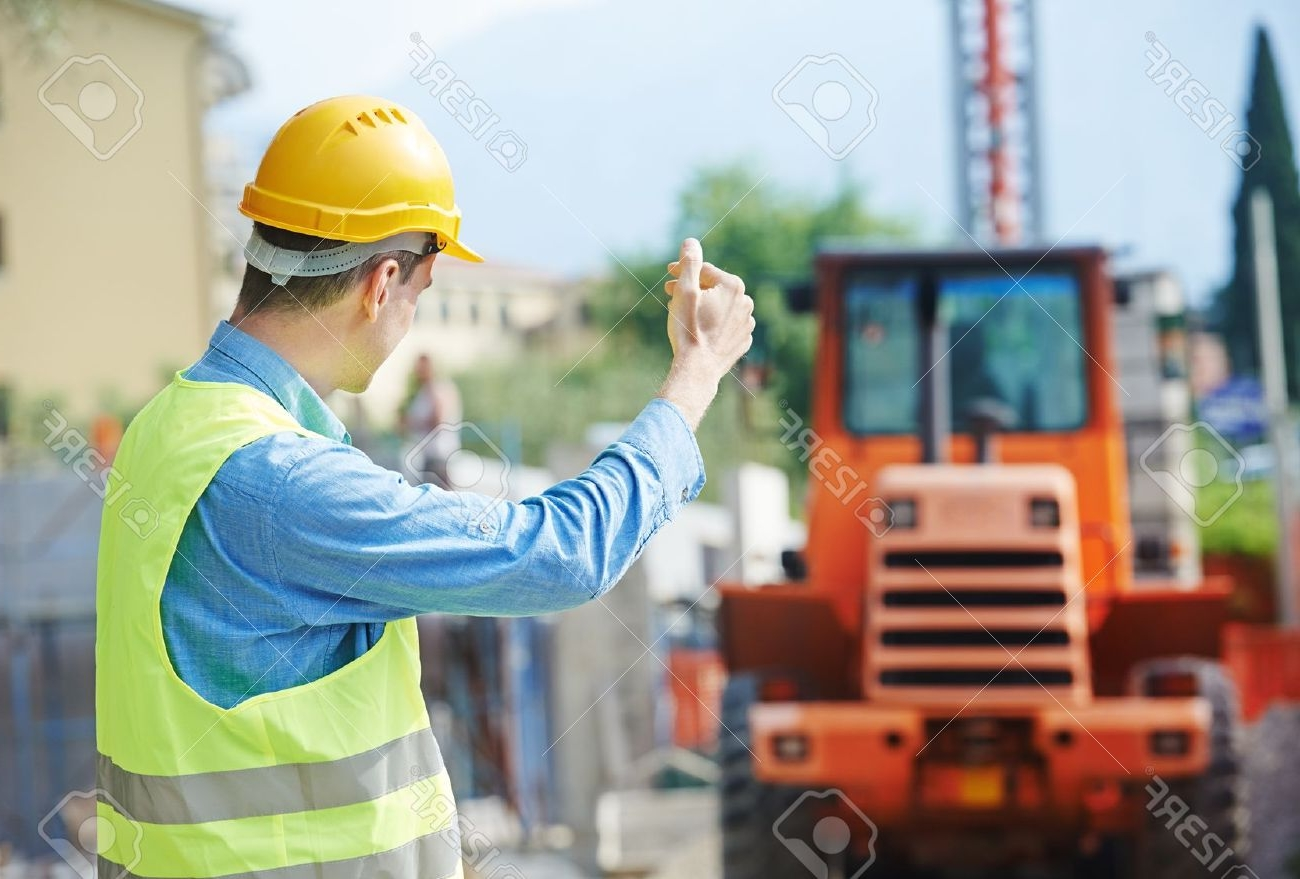hard hat: (237, 91, 487, 277)
high-vis: (89, 358, 467, 879)
